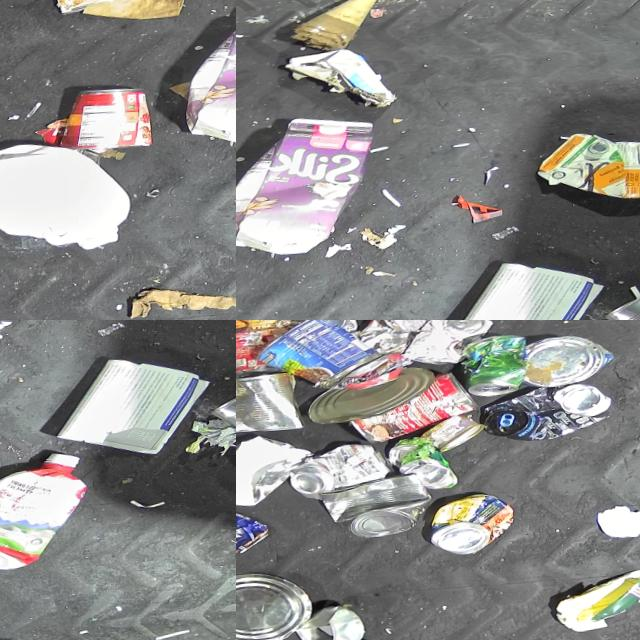can: (254, 320, 382, 395), (349, 372, 478, 446), (484, 385, 612, 448), (318, 473, 433, 542), (61, 83, 165, 158), (308, 368, 434, 425), (290, 442, 390, 501), (236, 567, 314, 640), (431, 494, 515, 559), (525, 336, 615, 392), (403, 320, 494, 370), (236, 370, 306, 433), (461, 339, 528, 402), (388, 438, 459, 495), (236, 320, 291, 375), (199, 388, 236, 461), (422, 415, 484, 457), (294, 603, 362, 640), (236, 494, 272, 553), (604, 283, 640, 320), (294, 320, 359, 335)
milk_jug: (0, 130, 140, 260)
